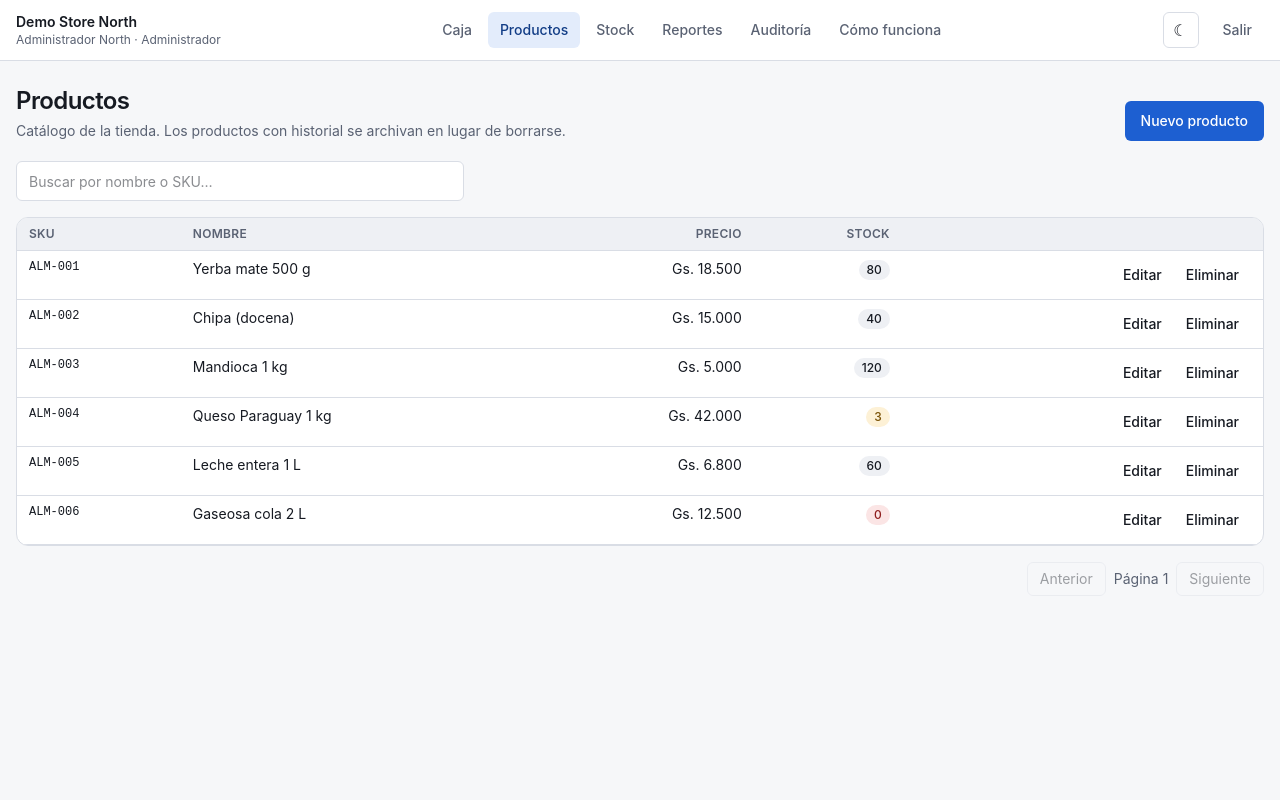
Test: UI components › closes toasts on demand
The image size is (1280, 800).
Step 1. Click the button with aria-label "Eliminar Gaseosa cola 2 L" → click(1212, 520), box [1174,504,1251,536]
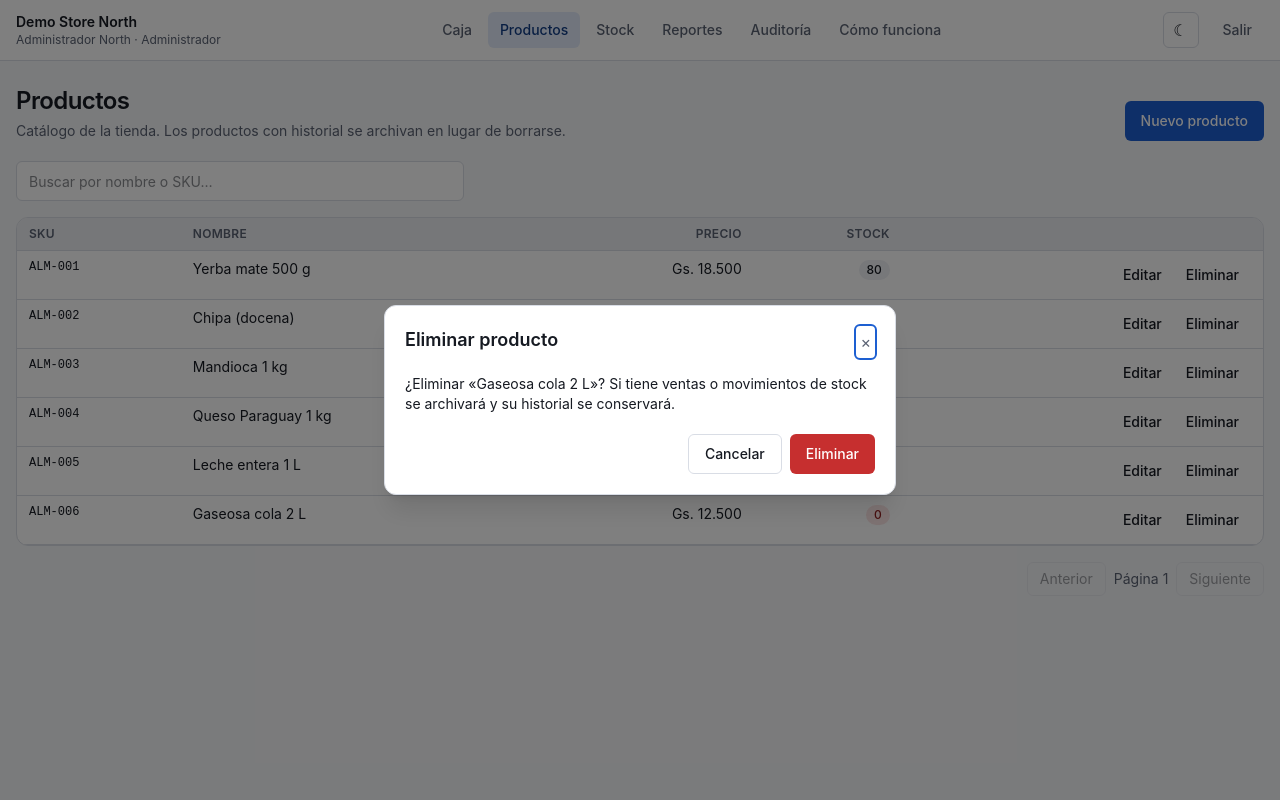
Step 2. Click the button "Eliminar" → click(832, 454), box [790,434,875,474]
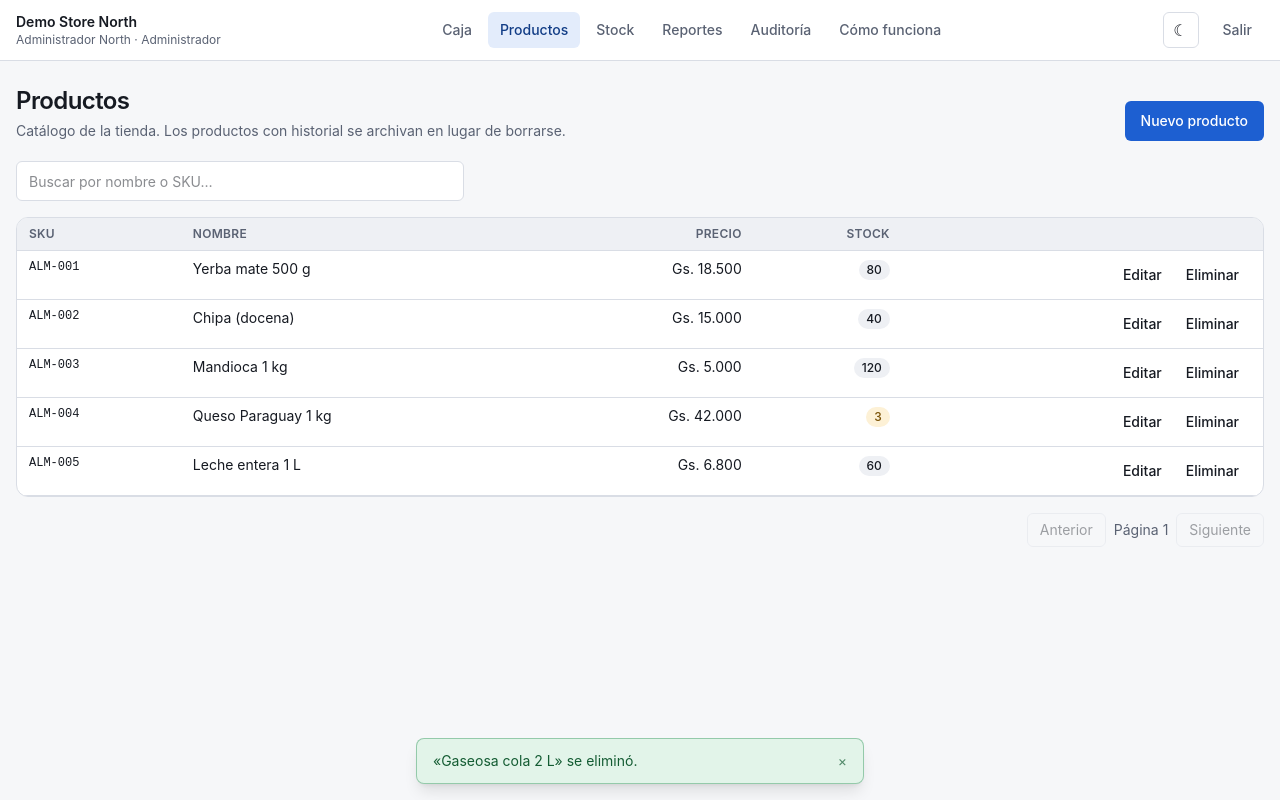
Result: the text "«Gaseosa cola 2 L» se eliminó." is shown at [433,752,638,769]
Step 3. Click the button named "Cerrar notificación" → click(842, 761), box [838,751,847,771]
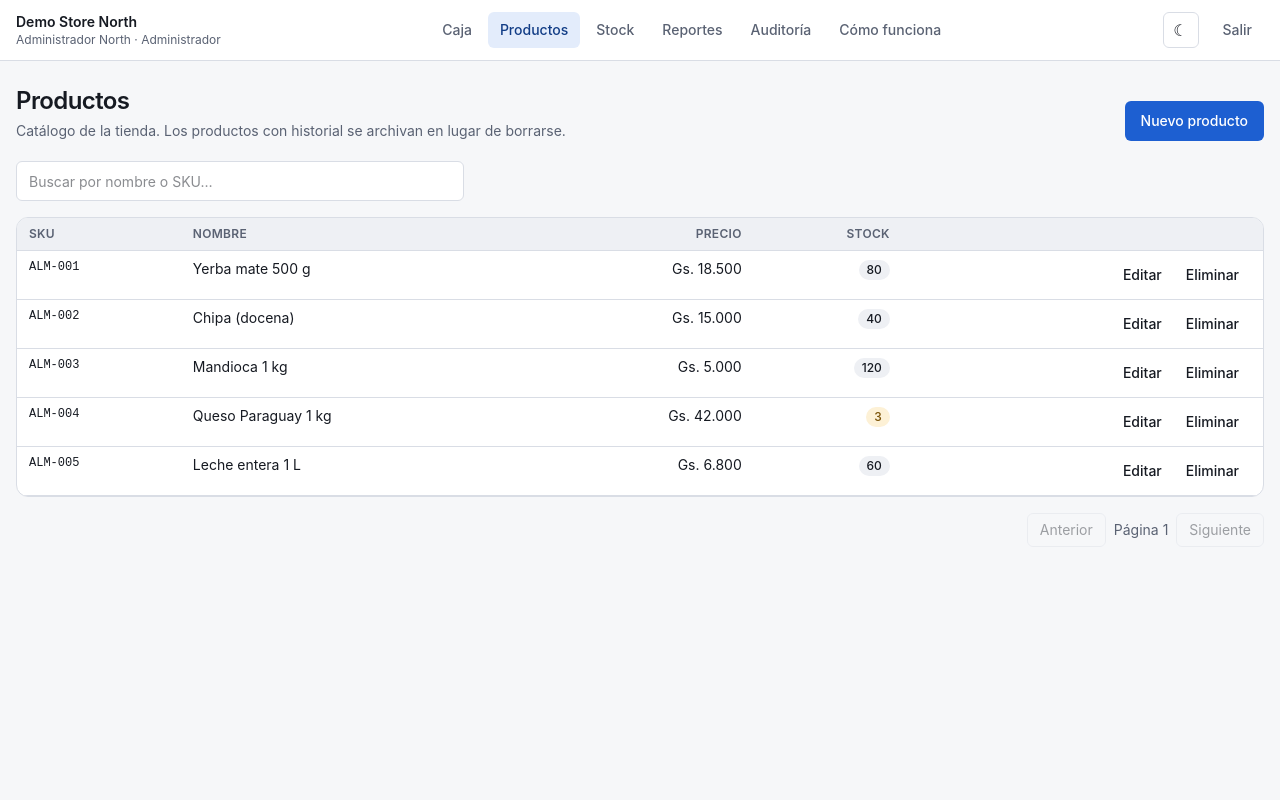
Result: the text "«Gaseosa cola 2 L» se eliminó." is gone
